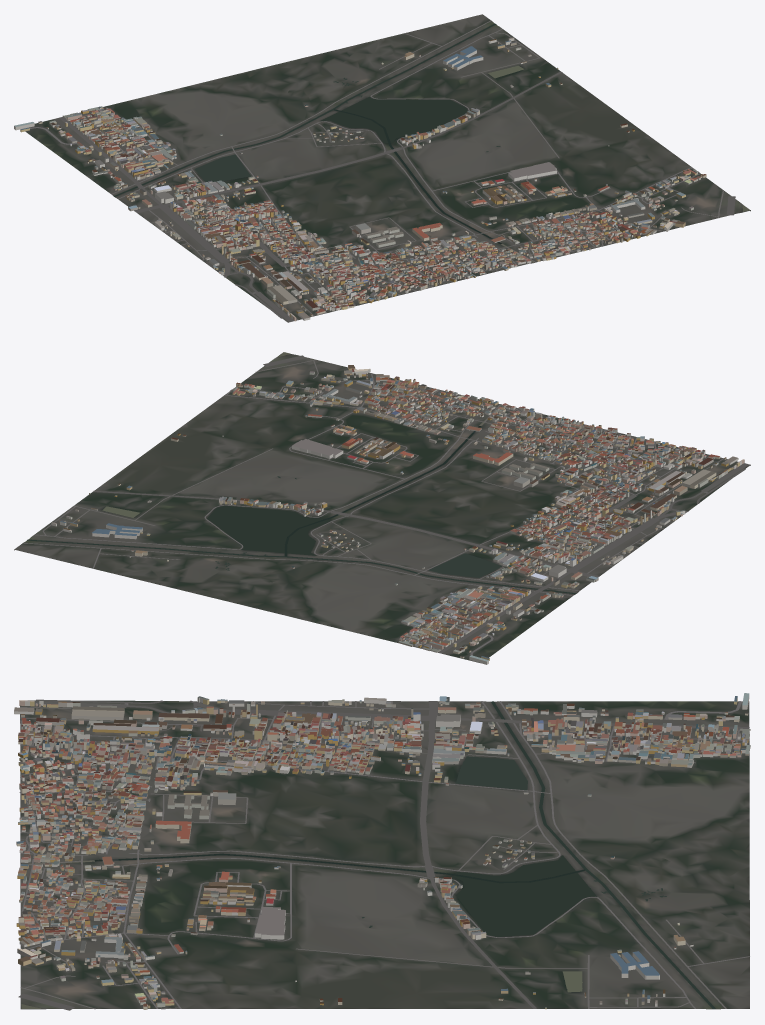
The picture shows the model from 3 angles, top to bottom: view 1: azimuth 30°, elevation 25°; view 2: azimuth 150°, elevation 25°; view 3: azimuth 270°, elevation 25°; orthographic projection. The views are drawn at different scales.
Parts seen in each view (by area): view 1: ground, buildings, roads, water; view 2: ground, buildings, roads, water; view 3: ground, buildings, roads, water.
Part boxes in pixels (x1=…): ground: x1=25, y1=14, x2=750, y2=322; buildings: x1=14, y1=37, x2=706, y2=321; roads: x1=30, y1=20, x2=735, y2=322; water: x1=114, y1=23, x2=749, y2=262; ground: x1=14, y1=354, x2=750, y2=663; buildings: x1=51, y1=365, x2=744, y2=664; roads: x1=23, y1=355, x2=749, y2=655; water: x1=27, y1=352, x2=576, y2=594; ground: x1=20, y1=700, x2=749, y2=1009; buildings: x1=14, y1=693, x2=750, y2=1009; roads: x1=18, y1=699, x2=749, y2=1010; water: x1=20, y1=701, x2=715, y2=1009.
Bounding box in the file's own units: 1426 × 30.73 × 1417.
